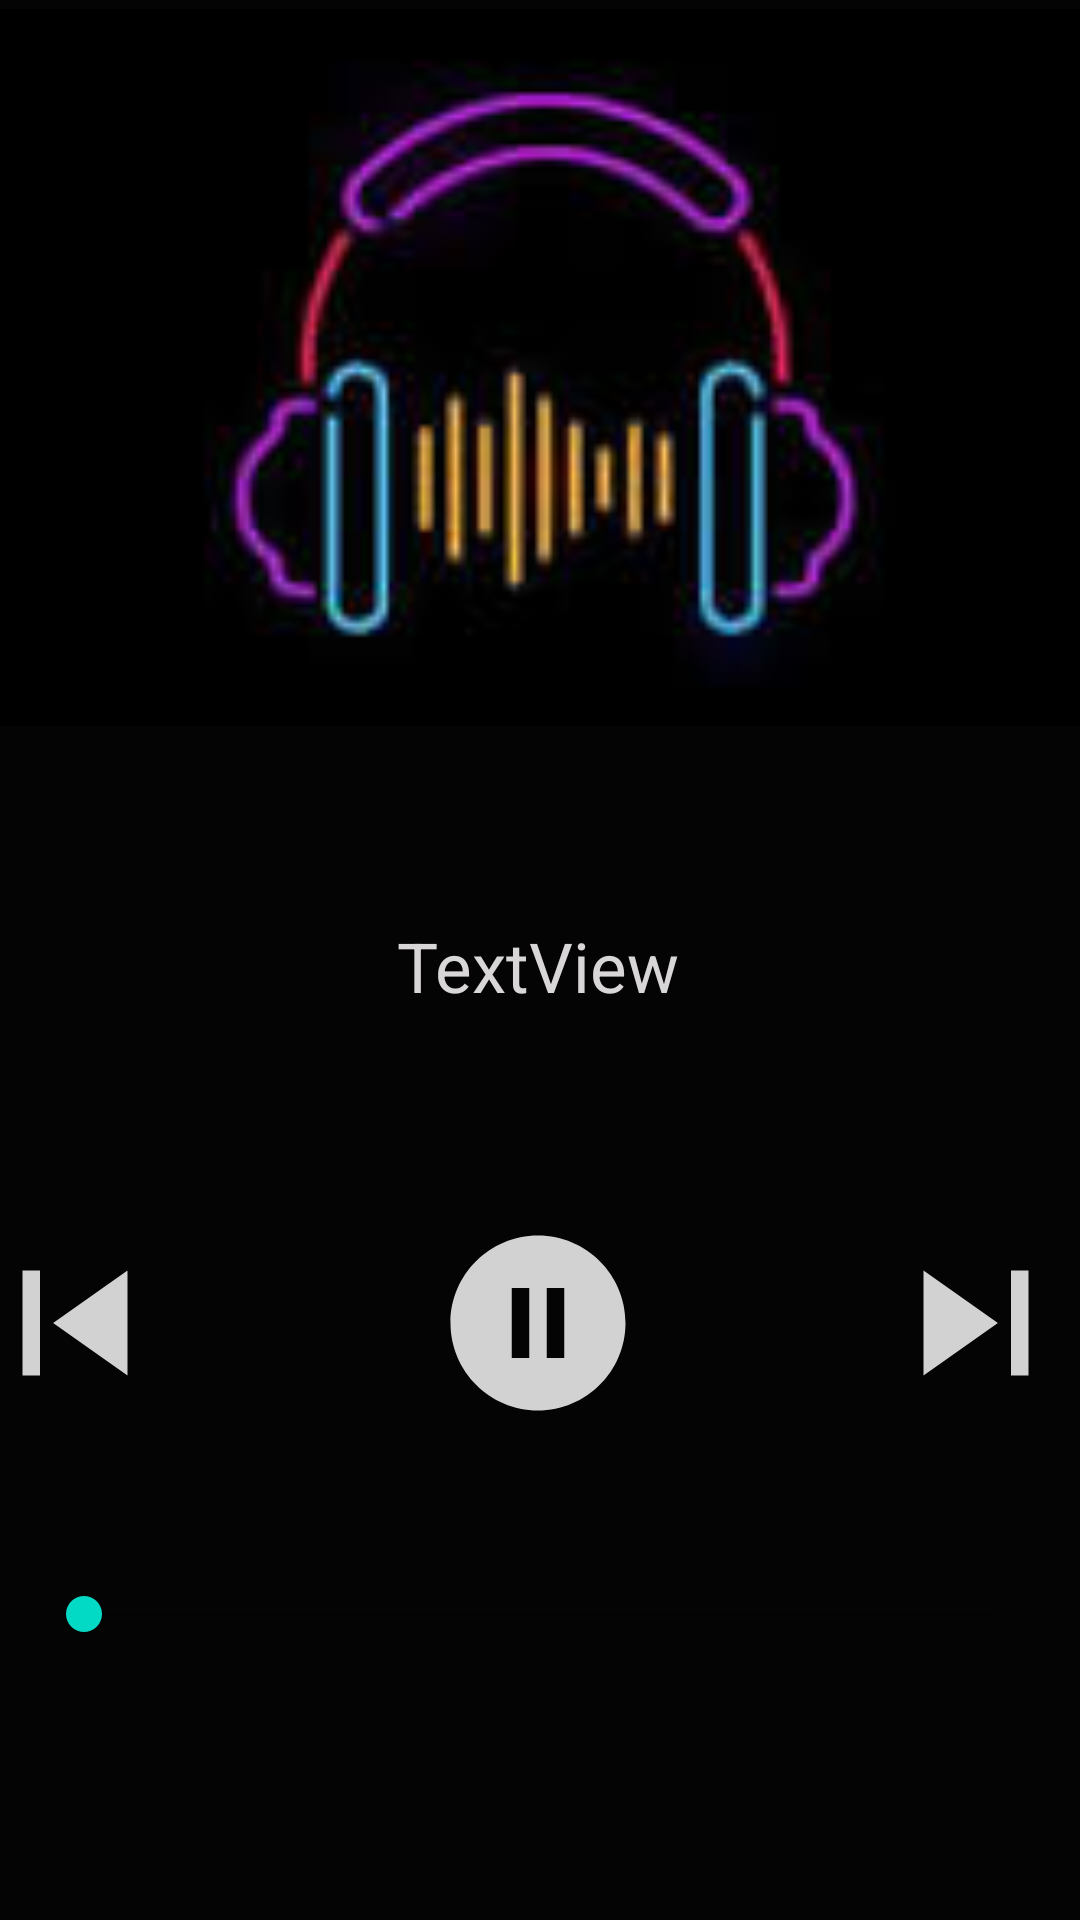

Where icons sit on this 1080 x 1920 app screen, as (x1, y1, x2, y2):
pause: (450, 1235, 626, 1411)
